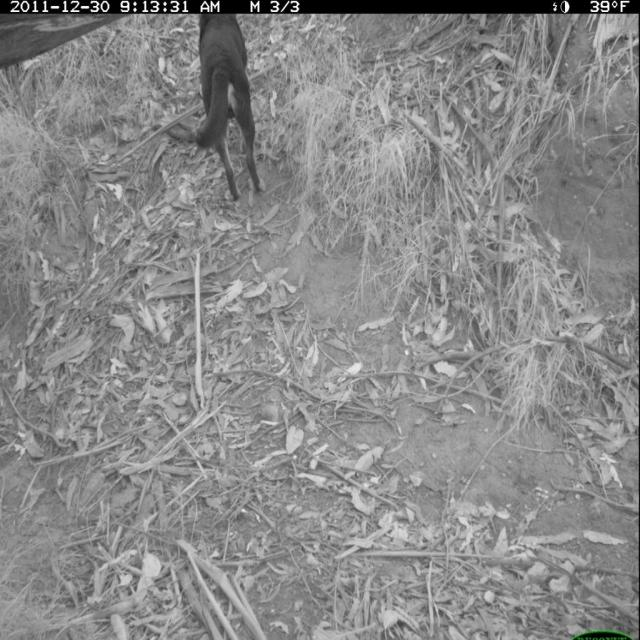dog: (178, 8, 283, 212)
